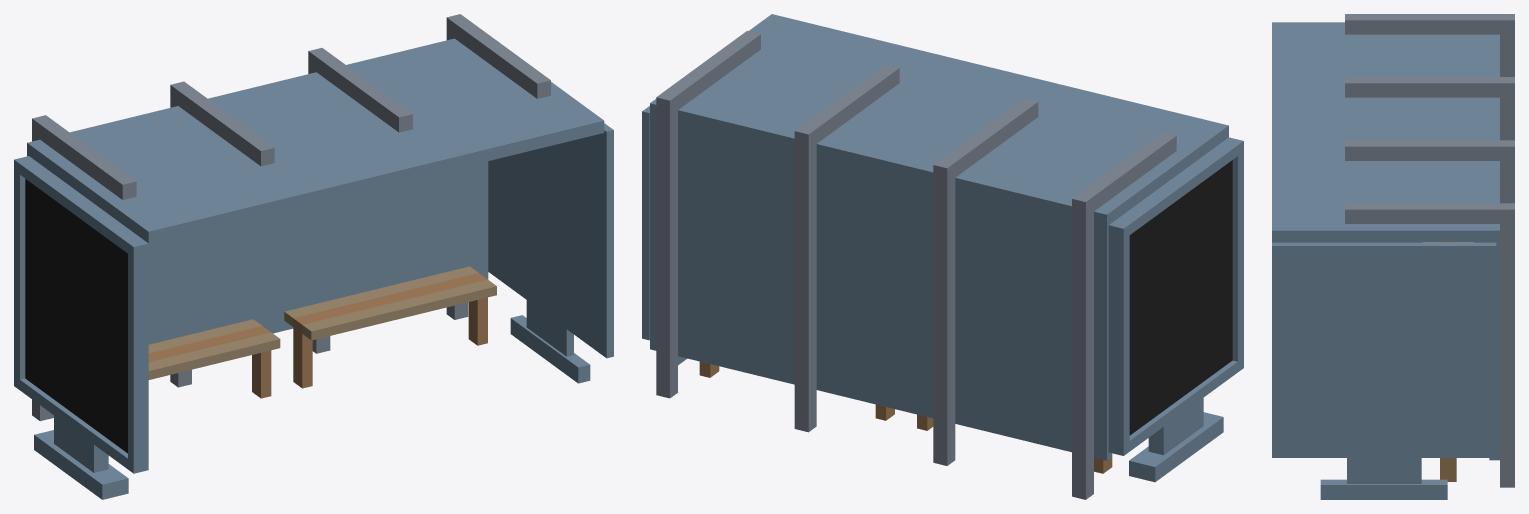
Rendered from Road_Objects_Bus_Stop.fbx.
3 renders of one model, left to right at view 1: azimuth 30°, elevation 25°; view 2: azimuth 150°, elevation 25°; view 3: azimuth 270°, elevation 25°, orthographic. The views are drawn at different scales.
Visible parts, largest first — view 1: Road_Objects_Bus_Stop; view 2: Road_Objects_Bus_Stop; view 3: Road_Objects_Bus_Stop.
Part boxes in pixels (box(x1,y1,x2,y2)): Road_Objects_Bus_Stop: box(14, 14, 613, 499); Road_Objects_Bus_Stop: box(642, 14, 1243, 499); Road_Objects_Bus_Stop: box(1272, 14, 1514, 499).
Bounding box in the file's own units: 471 × 274 × 216.
